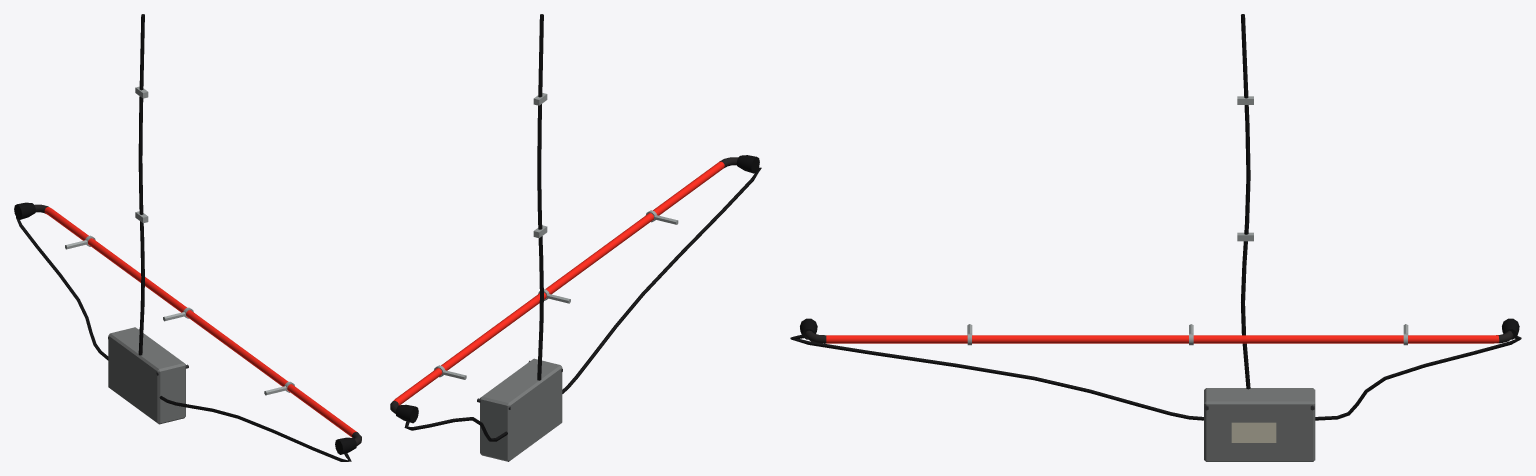
Rendered from neon_tube.glb.
3 renders of one model, left to right at view 1: azimuth 30°, elevation 25°; view 2: azimuth 150°, elevation 25°; view 3: azimuth 270°, elevation 25°, orthographic. The views are drawn at different scales.
Visible parts, largest first — view 1: teil4, teil0, teil7, teil2, teil3; view 2: teil4, teil7, teil0, teil2, teil3; view 3: teil4, teil0, teil7, teil5.
Boxes of the visible parts, box(x1,y1,x2,y2) form: teil4: box(108, 327, 185, 424); teil0: box(44, 207, 356, 437); teil7: box(16, 14, 351, 461); teil2: box(14, 202, 356, 454); teil3: box(65, 235, 294, 395); teil4: box(480, 358, 562, 461); teil7: box(404, 14, 761, 441); teil0: box(393, 161, 724, 405); teil2: box(395, 155, 759, 423); teil3: box(434, 210, 678, 379); teil4: box(1204, 388, 1315, 461); teil0: box(826, 335, 1499, 343); teil7: box(790, 14, 1521, 420); teil5: box(1231, 422, 1276, 442).
Bounding box in the file's own units: 0.07 × 0.8601 × 1.31.
